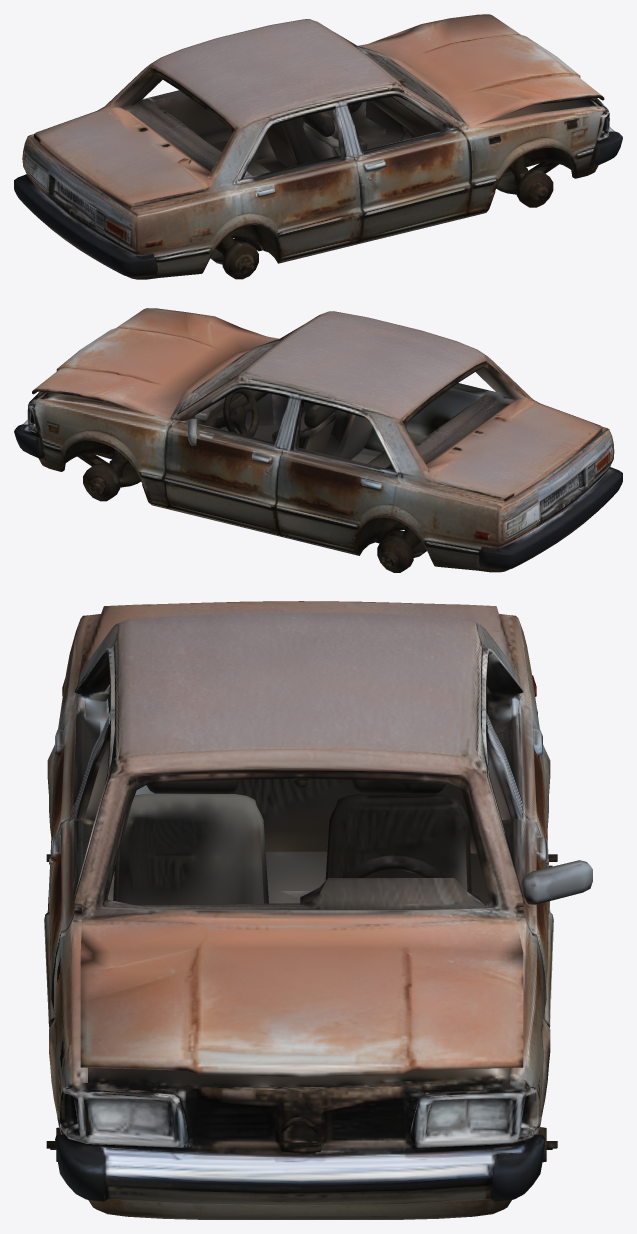
The model's file is Car_01.fbx.
3 renders of one model, top to bottom at view 1: azimuth 30°, elevation 25°; view 2: azimuth 150°, elevation 25°; view 3: azimuth 270°, elevation 25°, orthographic. The views are drawn at different scales.
Parts seen in each view (by area): view 1: material; view 2: material; view 3: material.
Part boxes in pixels (bbox=[...]): material: bbox=[14, 14, 622, 279]; material: bbox=[14, 308, 622, 572]; material: bbox=[44, 601, 592, 1219].
Bounding box in the file's own units: 566 × 262 × 163.
Materials: 1 (1 with a texture image).
